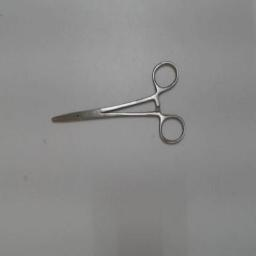Mayo Needle Holder: (43, 56, 191, 150)
